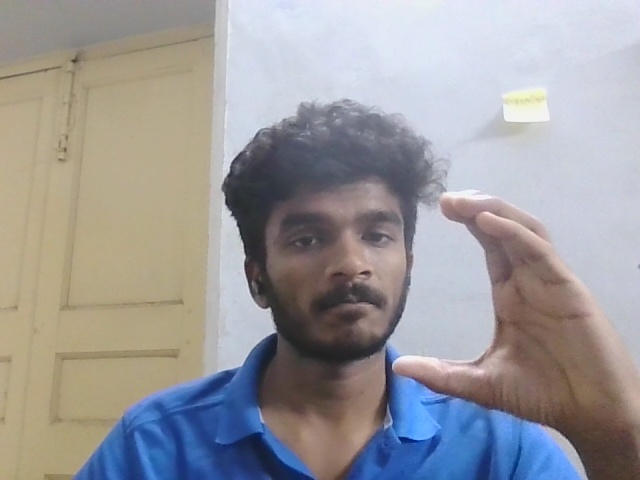No: (360, 163, 637, 450)
